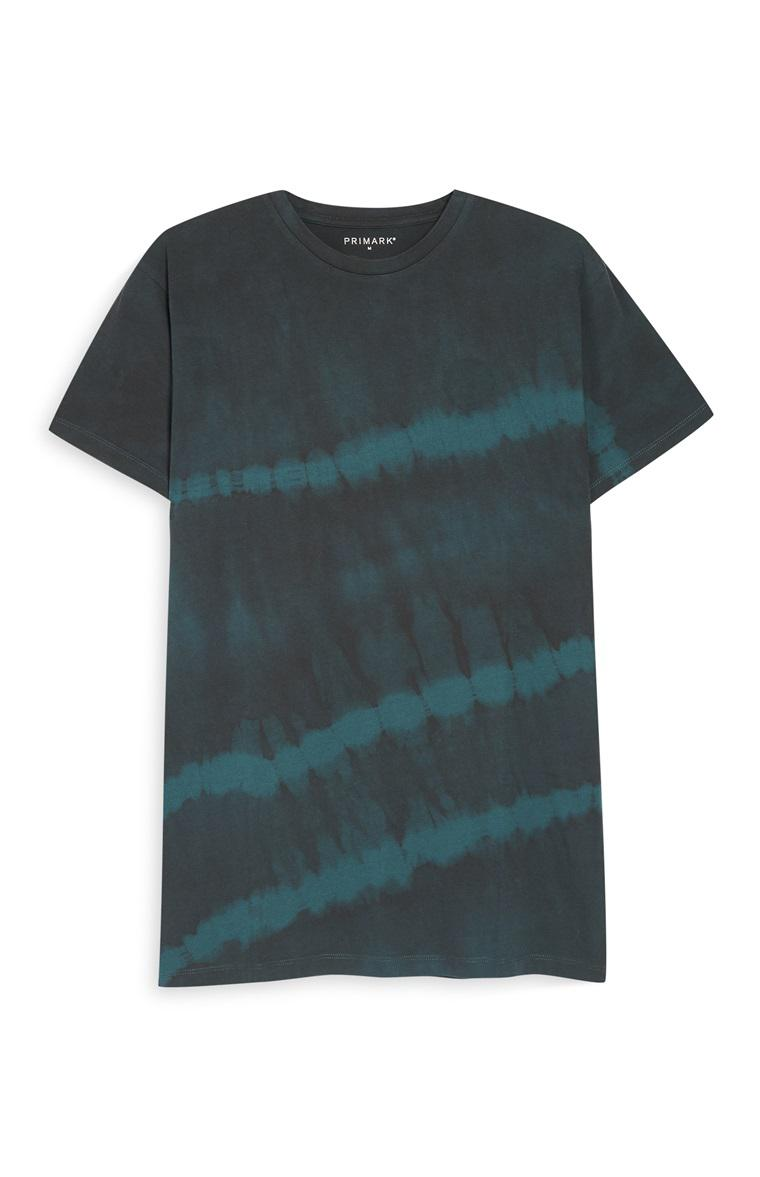teeshirt: (32, 168, 729, 1018)
